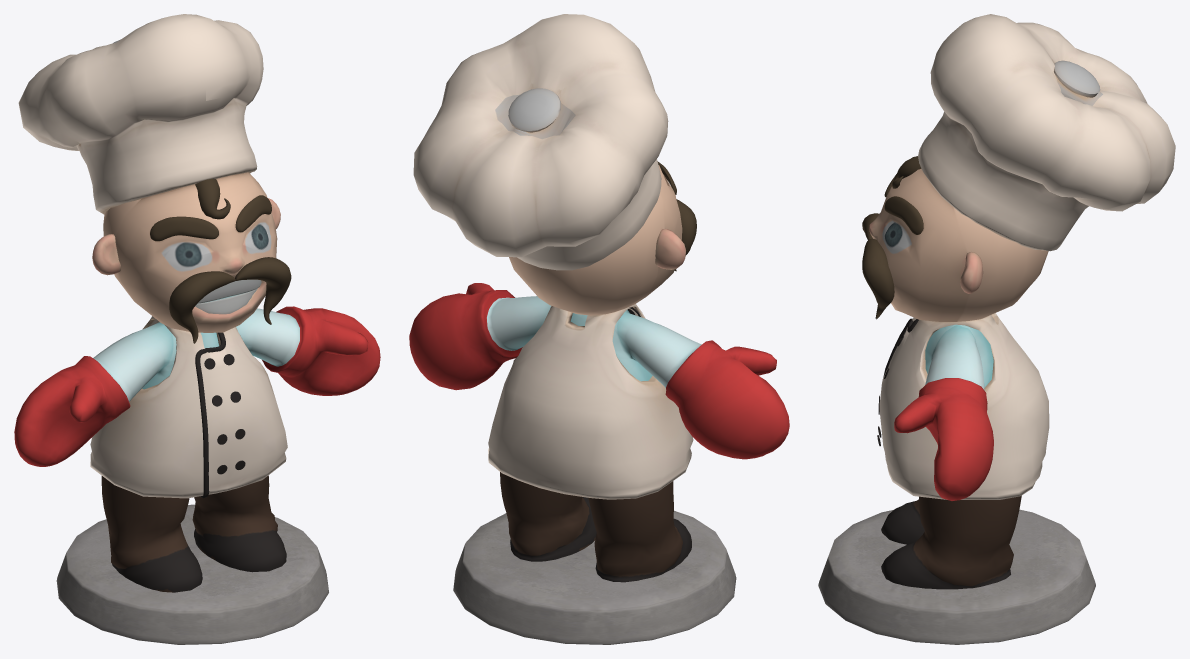
Rendered from baker_character.glb.
3 renders of one model, left to right at view 1: azimuth 30°, elevation 25°; view 2: azimuth 150°, elevation 25°; view 3: azimuth 270°, elevation 25°, orthographic. The views are drawn at different scales.
Parts seen in each view (by area): view 1: Low (×12), pedestal_low, Face_Low; view 2: Low (×7), pedestal_low, Face_Low; view 3: Low (×8), pedestal_low, Face_Low.
Part boxes in pixels (left/top/right/bottom): Low (×12): left=14, top=14, right=380, bottom=592; pedestal_low: left=56, top=504, right=328, bottom=644; Face_Low: left=103, top=172, right=277, bottom=332; Low (×7): left=409, top=14, right=789, bottom=582; pedestal_low: left=453, top=510, right=736, bottom=644; Face_Low: left=509, top=165, right=682, bottom=315; Low (×8): left=862, top=14, right=1175, bottom=589; pedestal_low: left=818, top=509, right=1095, bottom=644; Face_Low: left=869, top=168, right=1048, bottom=321.
Bounding box in the file's own units: 15.31 × 22.6 × 12.96.
Materials: 2 (2 with a texture image).
